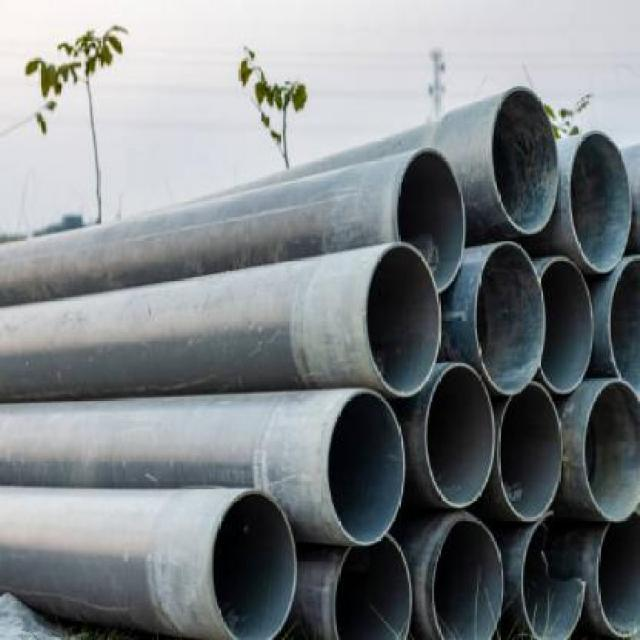pipe: (210, 489, 299, 639), (326, 390, 404, 546), (363, 243, 440, 396), (474, 242, 546, 395), (490, 85, 559, 234), (396, 150, 467, 293), (425, 363, 495, 508), (497, 382, 564, 522), (431, 514, 504, 638), (570, 131, 633, 274), (332, 533, 414, 640), (522, 510, 588, 639), (584, 378, 640, 523), (538, 257, 594, 392), (596, 519, 640, 638), (607, 255, 640, 398)
